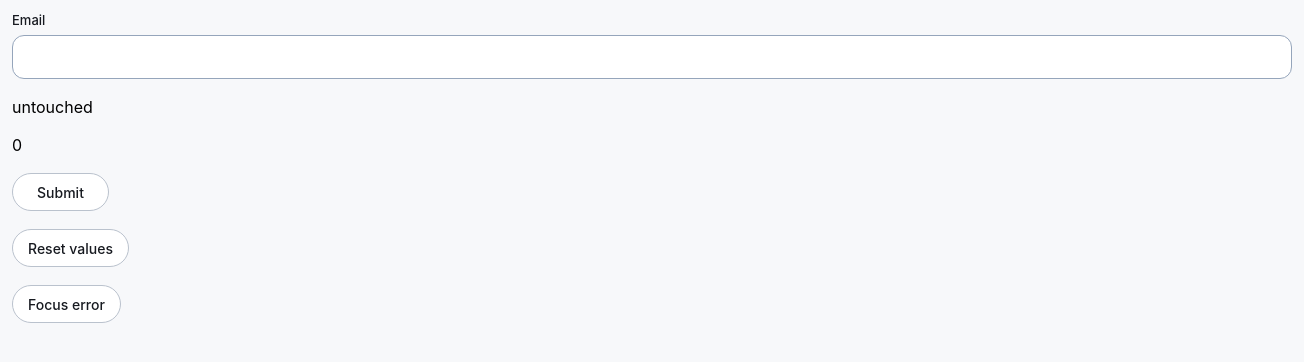
form-library controllerField adapter › maps change, blur, reset, submit, validation, and focus without exposing a DOM ref
Click the button "Submit" at (60, 192), box [12,173,109,211]
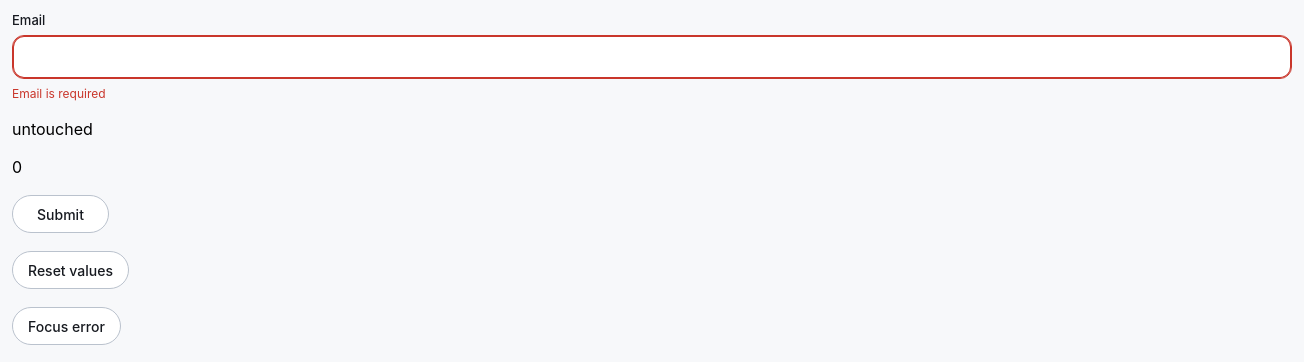
expect the text "Email is required" is shown: met, box [12,86,106,101]
Type "ada@example.com" into the field named "Profile email" at (652, 57), box [12,35,1292,79]
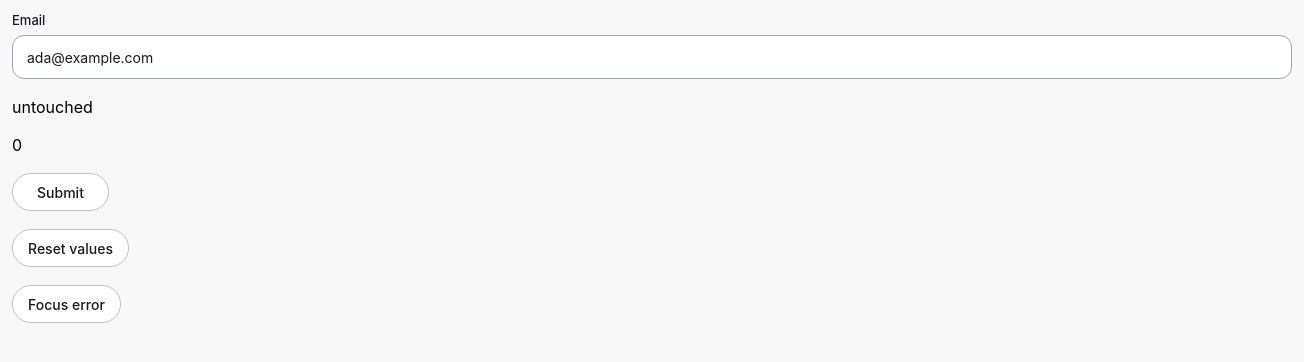
Press Tab
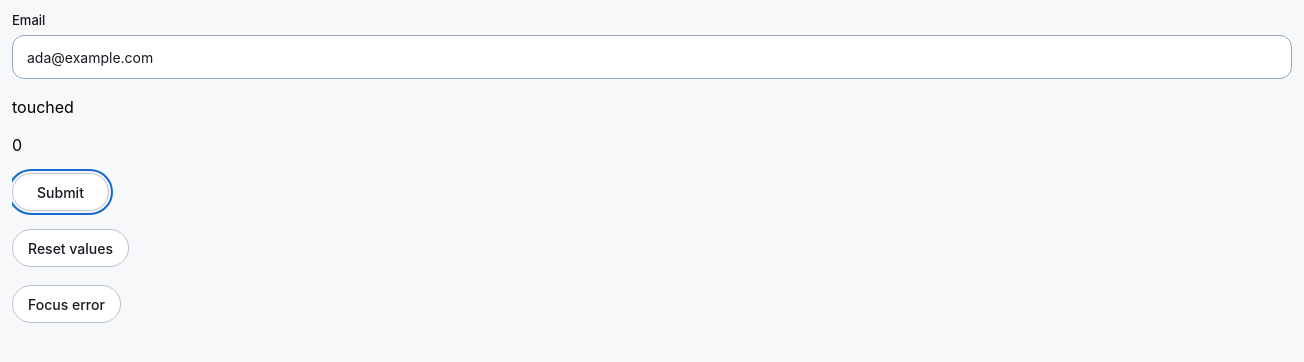
expect the text with test id "touched" reads "touched": met, box [12,97,74,117]
Click the button "Submit" at (60, 192), box [12,173,109,211]
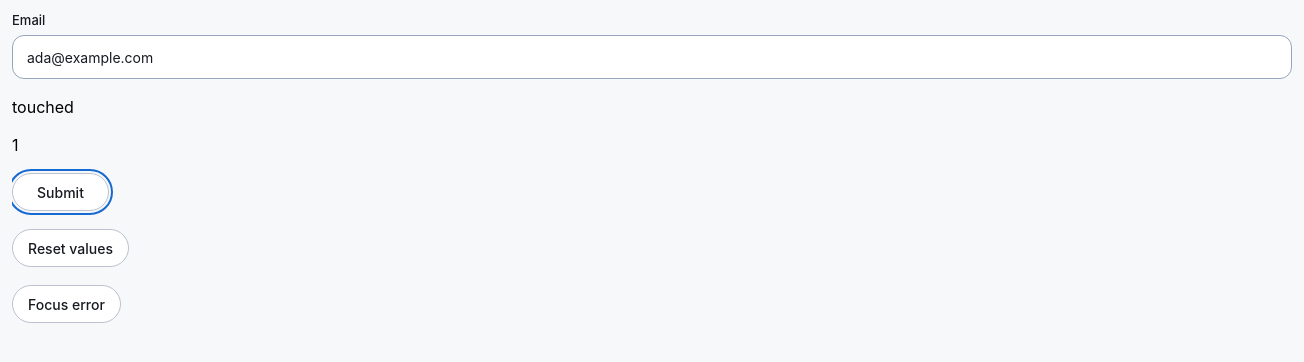
expect the text with test id "submitted" reads "1": met, box [12,135,18,155]
Click the button "Reset values" at (70, 248), box [12,229,129,267]
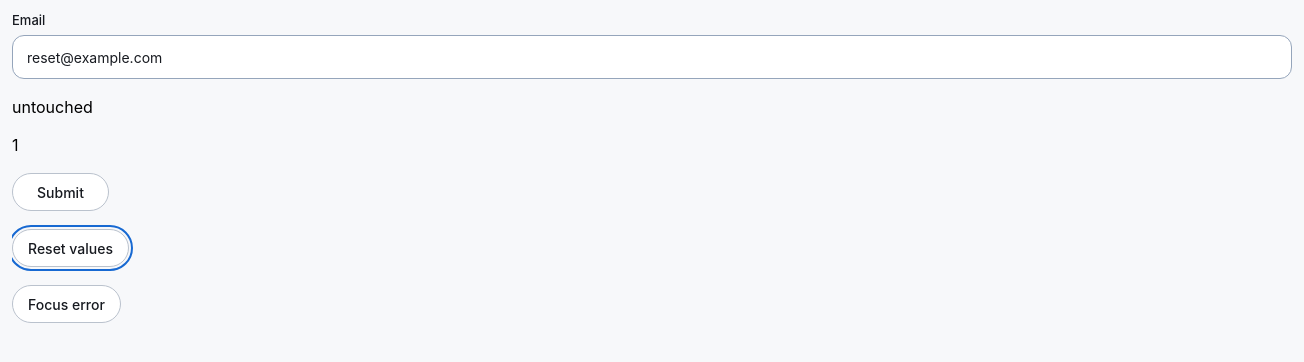
expect the field named "Profile email" holds "reset@example.com": met, box [12,35,1292,79]
Click the button "Focus error" at (66, 304), box [12,285,121,323]
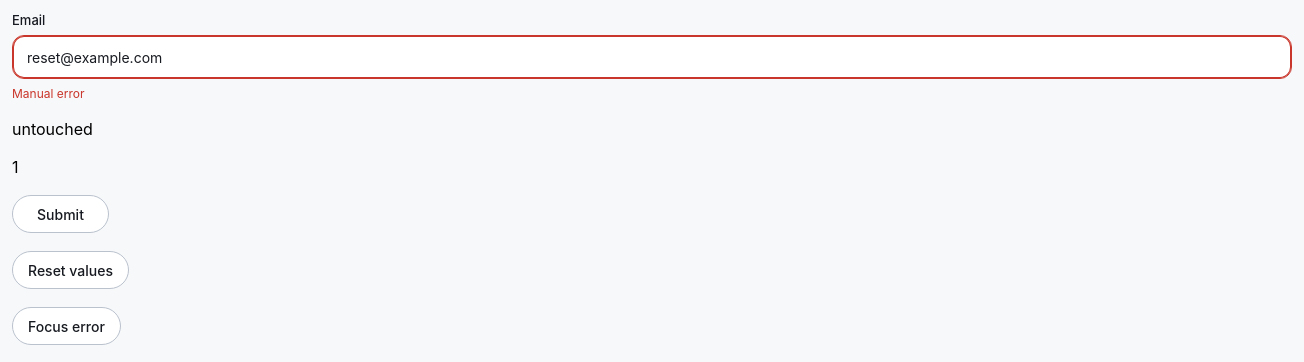
expect the text "Manual error" is shown: met, box [12,86,84,101]
